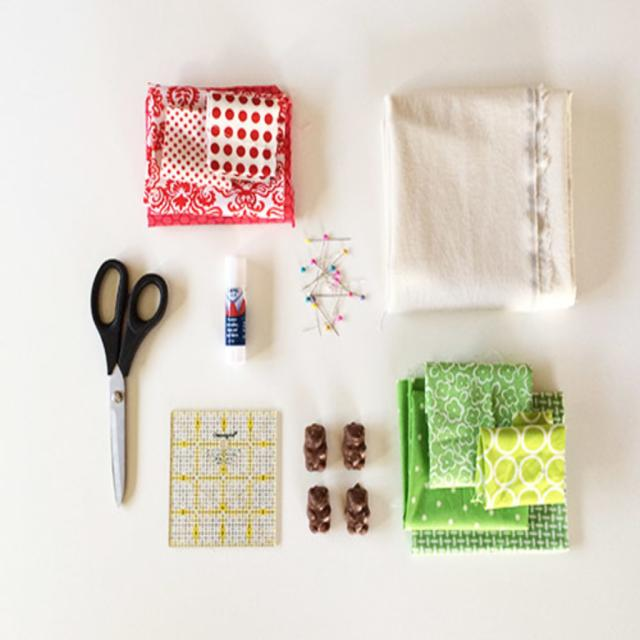scissors: (90, 257, 168, 506)
